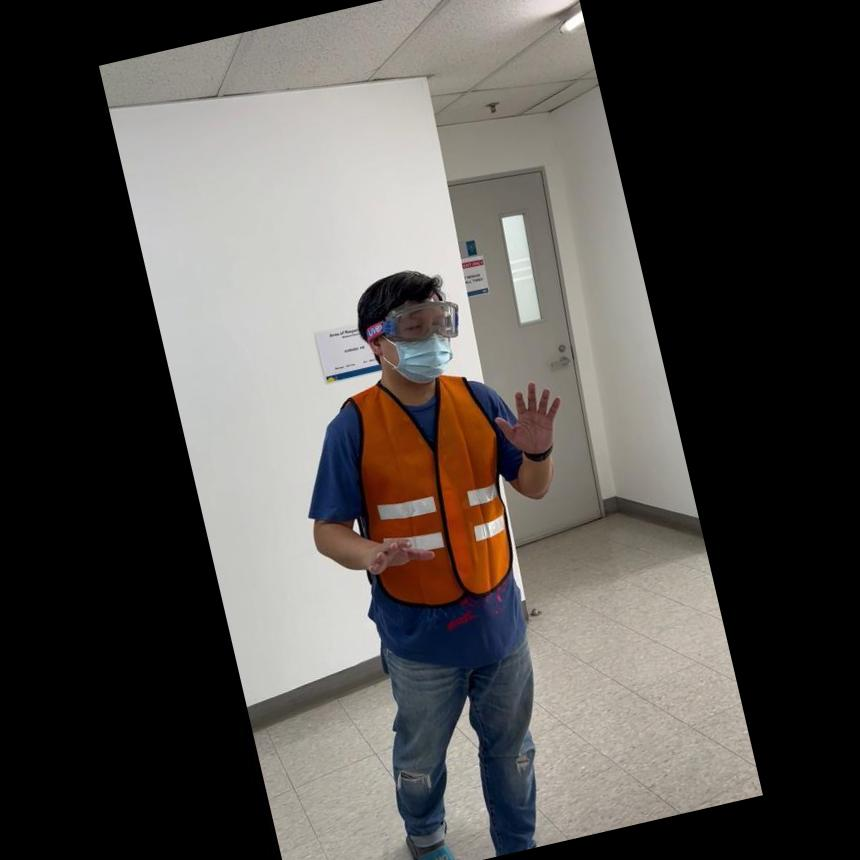No-gloves: (485, 370, 570, 464), (359, 520, 434, 578)
